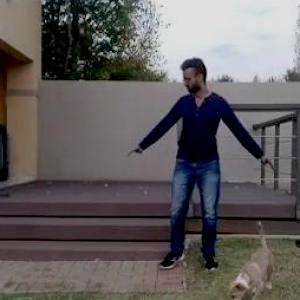land: (142, 54, 287, 264)
